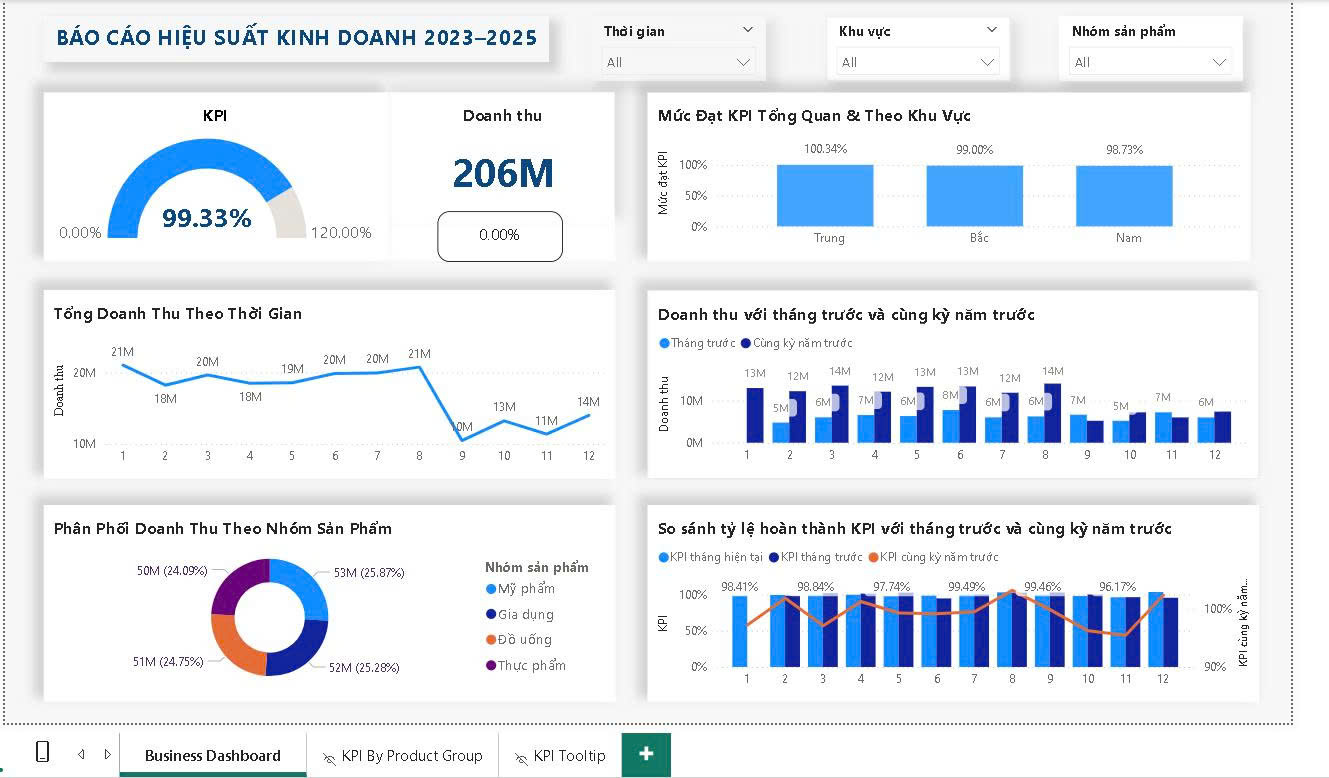

This screenshot's page, from the dashboard's own definition file:
{"tool":"powerbi","page":{"name":"Business Dashboard","canvas":[1280,720],"ordinal":0},"visuals":[{"type":"card","title":"Doanh thu","fields":{"Values":["Sheet1.Total Revenue"]},"box":[380,92,227,129.8],"z":0,"group":"g1"},{"type":"donutChart","title":"Phân Phối Doanh Thu Theo Nhóm Sản Phẩm","fields":{"Category":["Sheet1.Nhóm sản phẩm"],"Y":["Sheet1.Total Revenue"]},"box":[39,503,569,196],"z":0},{"type":"card","fields":{"Values":["Sheet1.Revenue Growth Month Over Month %"]},"box":[430.6,210,124.7,50],"z":1000,"group":"g1"},{"type":"lineChart","title":"Tổng Doanh Thu Theo Thời Gian","fields":{"Y":["Sheet1.Total Revenue"],"Category":["DateTable.MonthNumber"]},"box":[39,289,569,188],"z":1000},{"type":"textbox","box":[38.7,16.5,503.5,45.5],"z":2000},{"type":"slicer","title":"Thời gian","fields":{"Values":["DateTable.Year Hierarchy.Year","DateTable.Year Hierarchy.Month"]},"box":[583,16,174,65],"z":3000},{"type":"slicer","title":"Thời gian","fields":{"Values":["Sheet1.Khu vực"]},"box":[817,16,183,65],"z":4000},{"type":"slicer","title":"Thời gian","fields":{"Values":["Sheet1.Nhóm sản phẩm"]},"box":[1049,16,183,65],"z":5000},{"type":"lineStackedColumnComboChart","title":"Mức Đạt KPI Tổng Quan & Theo Khu Vực","fields":{"Category":["Sheet1.Khu vực"],"Y":["Sheet1.KPI Achievement %"]},"box":[640,92,600,168],"z":6000},{"type":"lineClusteredColumnComboChart","title":"Doanh thu với tháng trước và cùng kỳ năm trước","fields":{"Category":["DateTable.MonthNumber"],"Y":["Sheet1.Revenue Previous Month","Sheet1.Revenue Same Period Last Year"]},"box":[640,289,609,188],"z":7000},{"type":"group","id":"g1","title":"Group 1","box":[39,92,568,168],"z":8000},{"type":"gauge","title":"KPI","fields":{"Y":["Sheet1.KPI Achievement %"],"TargetValue":["Sheet1.KPI Target"]},"box":[39,92,342,168],"z":8000,"group":"g1"},{"type":"lineClusteredColumnComboChart","title":"So sánh tỷ lệ hoàn thành KPI với tháng trước và cùng kỳ năm trước","fields":{"Category":["DateTable.MonthNumber"],"Y":["Sheet1.KPI Achievement %","Sheet1.KPI_PreviousMonth"],"Y2":["Sheet1.KPI_SameMonthLastYear"]},"box":[640,503,609,196],"z":9000}]}

Visuals, with their boxes on the page's 1280x720 design canvas (x1, y1, x2, y2). These are canvas units, not pixel positions in the 1329x778 screenshot, which may show the page scaled, cropped or inside an application window:
"Doanh thu" card: [left=380, top=92, right=607, bottom=222]
"Phân Phối Doanh Thu Theo Nhóm Sản Phẩm" donutChart: [left=39, top=503, right=608, bottom=699]
card - Sheet1.Revenue Growth Month Over Month %: [left=431, top=210, right=555, bottom=260]
"Tổng Doanh Thu Theo Thời Gian" lineChart: [left=39, top=289, right=608, bottom=477]
textbox: [left=39, top=16, right=542, bottom=62]
"Thời gian" slicer: [left=583, top=16, right=757, bottom=81]
"Thời gian" slicer: [left=817, top=16, right=1000, bottom=81]
"Thời gian" slicer: [left=1049, top=16, right=1232, bottom=81]
"Mức Đạt KPI Tổng Quan & Theo Khu Vực" lineStackedColumnComboChart: [left=640, top=92, right=1240, bottom=260]
"Doanh thu với tháng trước và cùng kỳ năm trước" lineClusteredColumnComboChart: [left=640, top=289, right=1249, bottom=477]
"Group 1" group: [left=39, top=92, right=607, bottom=260]
"KPI" gauge: [left=39, top=92, right=381, bottom=260]
"So sánh tỷ lệ hoàn thành KPI với tháng trước và cùng kỳ năm trước" lineClusteredColumnComboChart: [left=640, top=503, right=1249, bottom=699]
